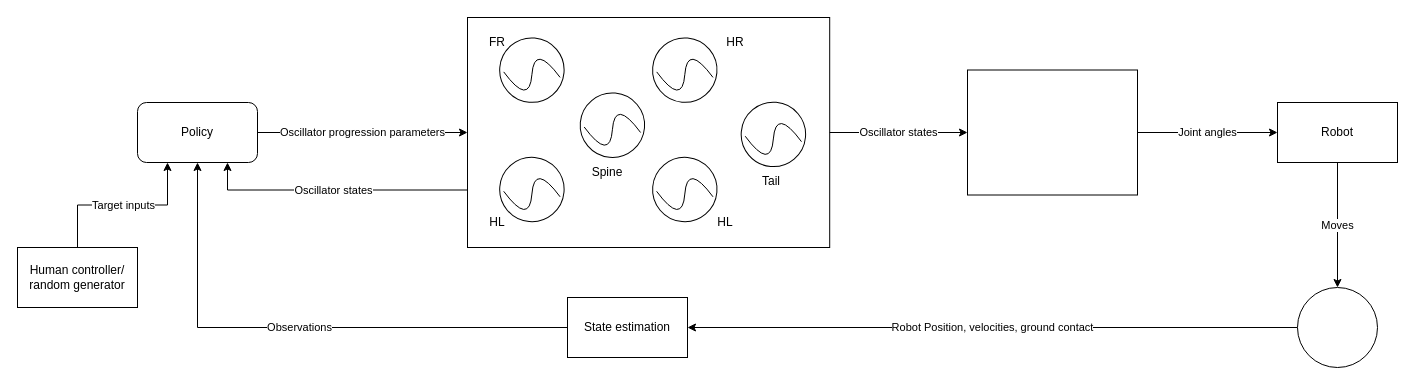
The diagram is 1415 pixels wide and 385 high, and some of its shapes have lost their labels. Here are the shapes that lost their labels. From the top down, the centre of each, then its label:
[1052,132]: Inverse Kinematics, PD Control
[1337,327]: Simulation
